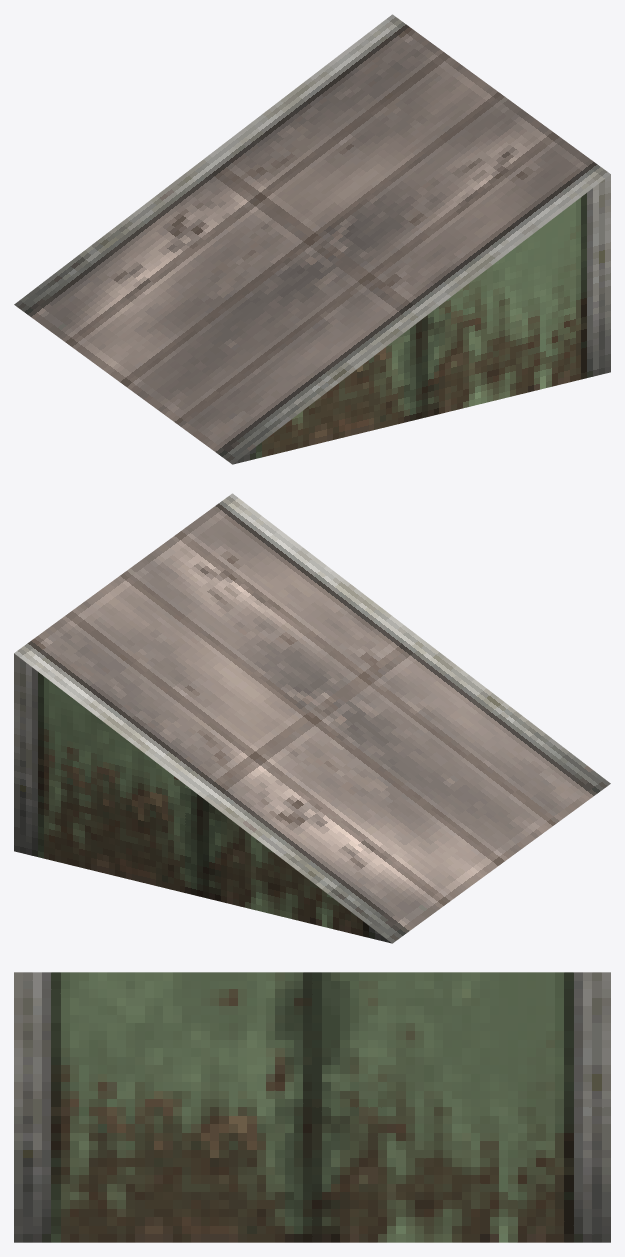
Rendered from wallB_roofSlant.fbx.
The picture shows the model from 3 angles, top to bottom: view 1: azimuth 30°, elevation 25°; view 2: azimuth 150°, elevation 25°; view 3: azimuth 270°, elevation 25°; orthographic projection. The views are drawn at different scales.
Parts seen in each view (by area): view 1: wallB_roofSlant; view 2: wallB_roofSlant; view 3: wallB_roofSlant.
Boxes of the visible parts, <box> form: wallB_roofSlant: <box>14,14,610,464</box>; wallB_roofSlant: <box>14,493,610,943</box>; wallB_roofSlant: <box>14,972,610,1242</box>.
Bounding box in the file's own units: 10 × 5 × 10.
